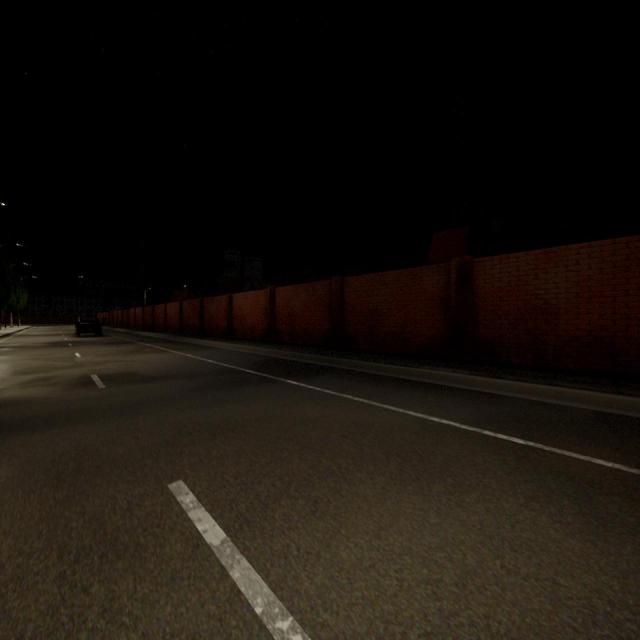Vehicle: (75, 316, 101, 337)
